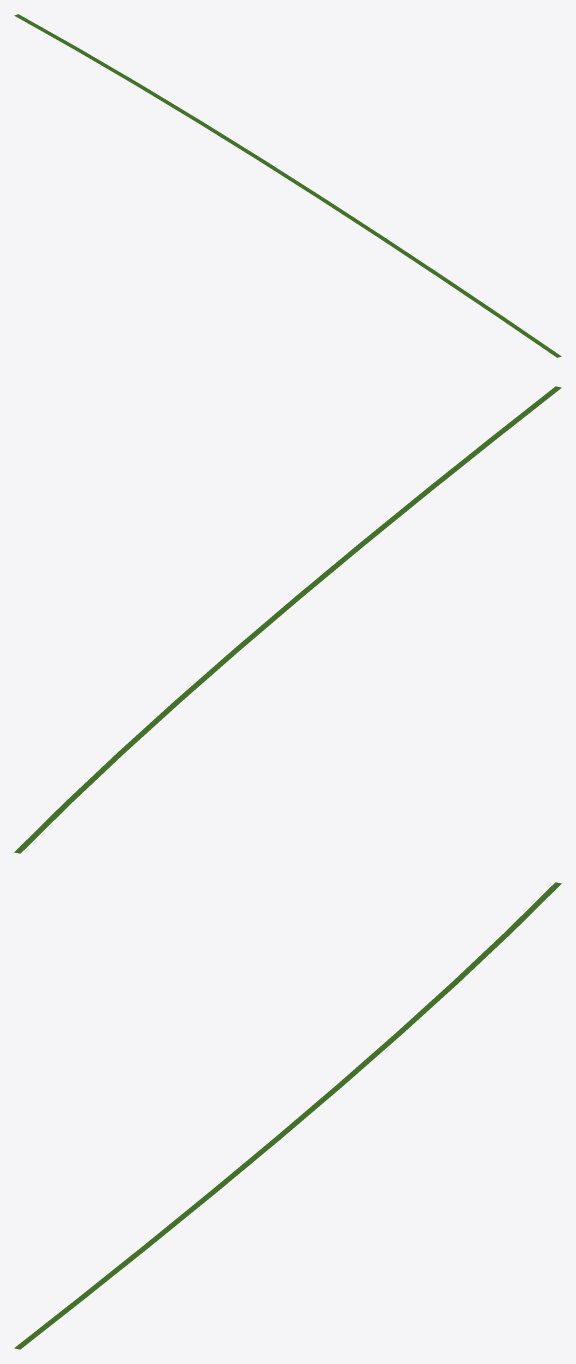
Rendered from 800_4x400_Group_Start_2000_10000m.FBX.
3 views of the same model, one above another, from view 1: azimuth 30°, elevation 25°; view 2: azimuth 150°, elevation 25°; view 3: azimuth 330°, elevation 25° (orthographic). The views are drawn at different scales.
Visible parts, largest first — view 1: Breakline 800_4x400_Group_Start_2000_10000m; view 2: Breakline 800_4x400_Group_Start_2000_10000m; view 3: Breakline 800_4x400_Group_Start_2000_10000m.
Boxes of the visible parts, x1,y1,x2,y2 form: Breakline 800_4x400_Group_Start_2000_10000m: [14, 14, 561, 357]; Breakline 800_4x400_Group_Start_2000_10000m: [14, 386, 561, 853]; Breakline 800_4x400_Group_Start_2000_10000m: [14, 882, 561, 1349].
Size of the model in its own units: 6.28 by 2.98e-08 by 86.02.
